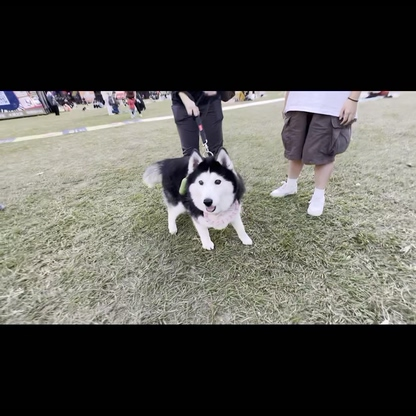husky: (128, 141, 256, 255)
